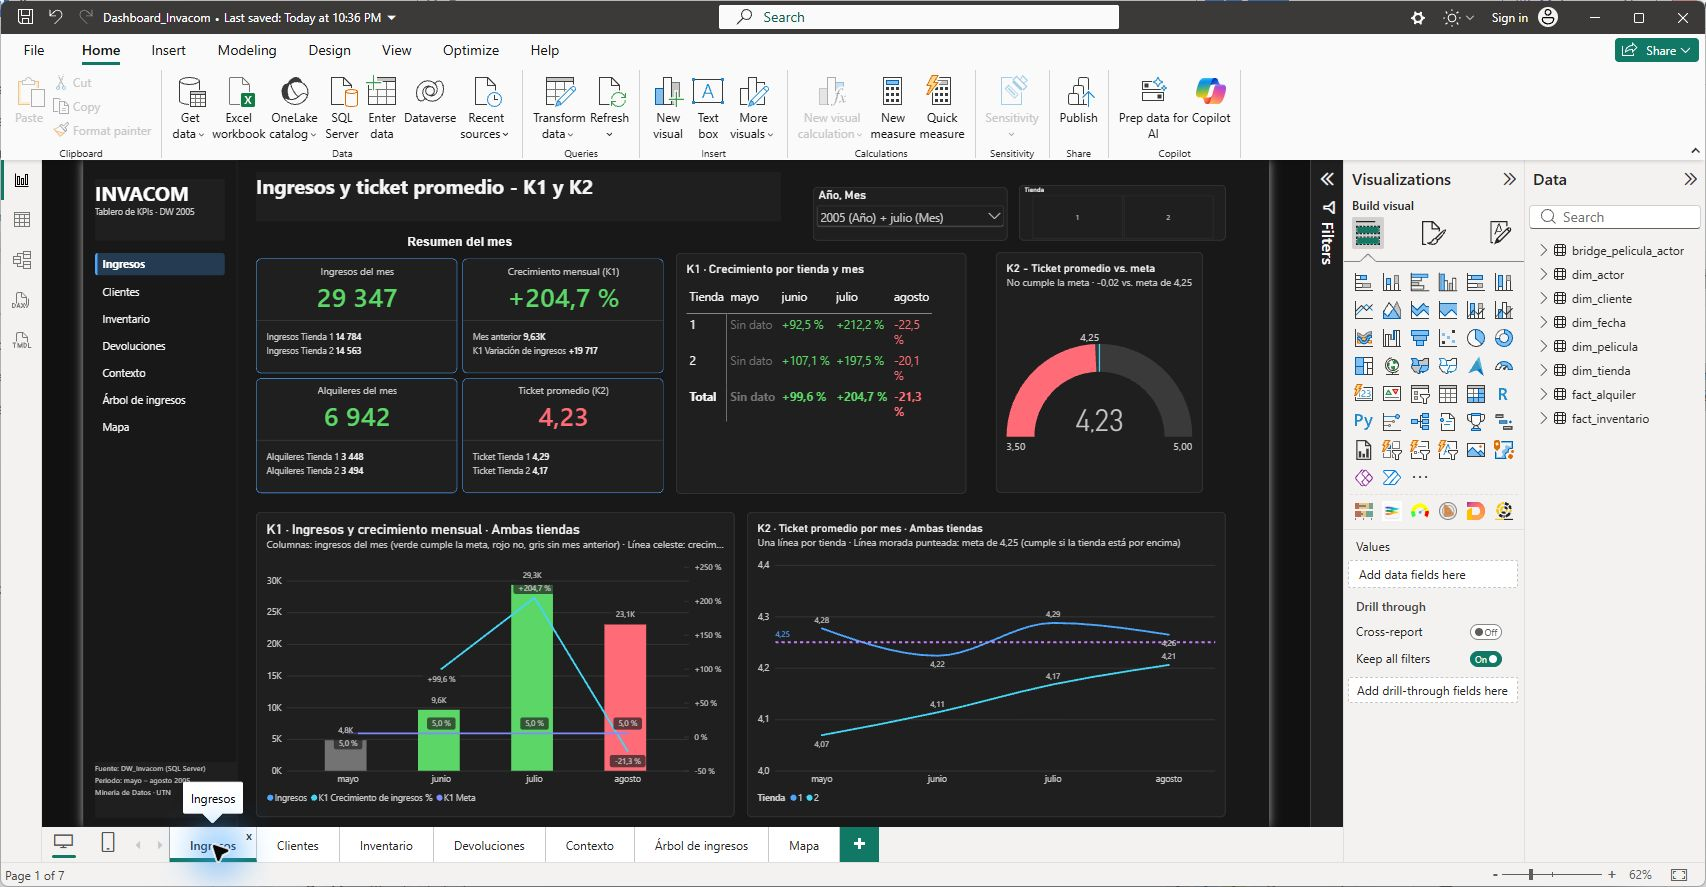

This screenshot's page, from the dashboard's own definition file:
{"tool":"powerbi","page":{"name":"Ingresos ","canvas":[1920,1080],"ordinal":1},"visuals":[{"type":"shape","box":[0,0,250,1080],"z":0},{"type":"cardVisual","title":"Resumen del mes","fields":{"Data":["fact_alquiler.Ingresos Texto","fact_alquiler.K1 Texto","fact_alquiler.Alquileres Texto","fact_alquiler.K2 Texto"]},"box":[280,121,660,419],"z":1000},{"type":"slicer","fields":{"Values":["dim_fecha.anio","dim_fecha.nombre_mes"]},"box":[1180,22,315,86.7],"z":2000},{"type":"lineClusteredColumnComboChart","fields":{"Category":["dim_fecha.nombre_mes"],"Y":["fact_alquiler.Ingresos"],"Y2":["fact_alquiler.K1 Crecimiento de ingresos %","fact_alquiler.K1 Meta"]},"box":[280,570,775,494],"z":3000},{"type":"pivotTable","title":"K1 · Crecimiento por tienda y mes","fields":{"Columns":["dim_fecha.nombre_mes"],"Rows":["dim_tienda.store_id"],"Values":["fact_alquiler.K1 Texto"]},"box":[960,150,470,390],"z":4000},{"type":"slicer","fields":{"Values":["dim_tienda.store_id"]},"box":[1530,22,335,90],"z":5000},{"type":"pageNavigator","box":[20,150,210,300],"z":6000},{"type":"textbox","box":[20,30,210,100],"z":6001},{"type":"textbox","box":[280,20,850,80],"z":6002},{"type":"gauge","title":"K2 - Ticket promedio vs. meta","fields":{"MaxValue":["fact_alquiler.K2 Medidor máximo"],"MinValue":["fact_alquiler.K2 Medidor mínimo"],"TargetValue":["fact_alquiler.K2 Meta"],"Y":["fact_alquiler.K2 Ticket promedio"]},"box":[1530,150,335,390],"z":6003},{"type":"lineClusteredColumnComboChart","fields":{"Category":["dim_fecha.nombre_mes"],"Y":["fact_alquiler.K2 Ticket promedio"],"Y2":["fact_alquiler.K2 Meta"]},"box":[1075,570,775,494],"z":6004}]}

Visuals, with their boxes on the page's 1920x1080 design canvas (x1, y1, x2, y2). These are canvas units, not pixel positions in the 1706x887 screenshot, which may show the page scaled, cropped or inside an application window:
shape: locate(0, 0, 250, 1080)
"Resumen del mes" cardVisual: locate(280, 121, 940, 540)
slicer - dim_fecha.anio x dim_fecha.nombre_mes: locate(1180, 22, 1495, 109)
lineClusteredColumnComboChart - dim_fecha.nombre_mes x fact_alquiler.Ingresos: locate(280, 570, 1055, 1064)
"K1 · Crecimiento por tienda y mes" pivotTable: locate(960, 150, 1430, 540)
slicer - dim_tienda.store_id: locate(1530, 22, 1865, 112)
pageNavigator: locate(20, 150, 230, 450)
textbox: locate(20, 30, 230, 130)
textbox: locate(280, 20, 1130, 100)
"K2 - Ticket promedio vs. meta" gauge: locate(1530, 150, 1865, 540)
lineClusteredColumnComboChart - dim_fecha.nombre_mes x fact_alquiler.K2 Ticket promedio: locate(1075, 570, 1850, 1064)
